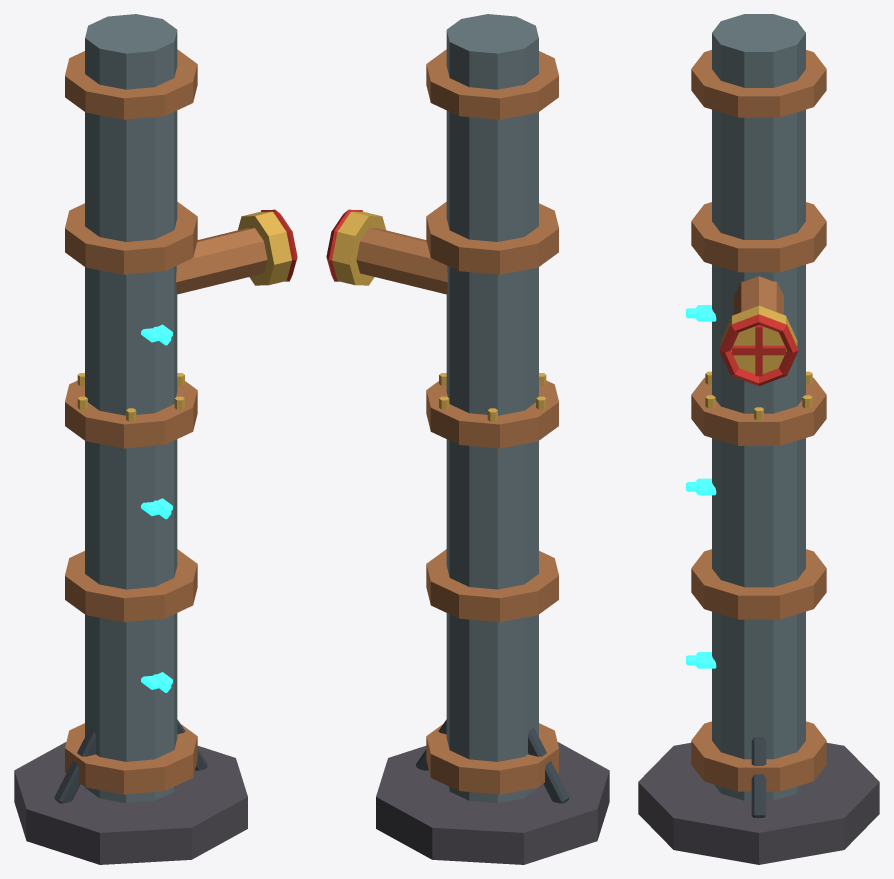
File: arcane_pipe_stack.glb
The picture shows the model from 3 angles, left to right: view 1: azimuth 30°, elevation 25°; view 2: azimuth 150°, elevation 25°; view 3: azimuth 270°, elevation 25°; orthographic projection.
Parts seen in each view (by area): view 1: Tall iron pipe, Carved pipe footing, Copper flange.003, Copper flange.001, Copper flange, Upper pipe collar, Copper flange.002, Side outlet, Outlet collar, Pipe brace; view 2: Tall iron pipe, Carved pipe footing, Copper flange.003, Copper flange.001, Copper flange, Upper pipe collar, Copper flange.002, Side outlet, Outlet collar, Pipe brace; view 3: Tall iron pipe, Carved pipe footing, Copper flange.001, Copper flange.003, Copper flange, Upper pipe collar, Copper flange.002, Valve wheel, Outlet collar, Side outlet, Pipe brace.001, Valve spoke.
Boxes of the visible parts, x1,y1,x2,y2 form: Tall iron pipe: (85,14,177,803); Carved pipe footing: (14,742,247,864); Copper flange.003: (65,202,197,274); Copper flange.001: (65,549,197,622); Copper flange: (65,723,197,794); Upper pipe collar: (65,49,197,119); Copper flange.002: (65,380,197,448); Side outlet: (176,228,267,294); Outlet collar: (238,211,291,285); Pipe brace: (54,727,95,803); Tall iron pipe: (446,14,538,803); Carved pipe footing: (376,742,609,864); Copper flange.003: (426,202,558,274); Copper flange.001: (426,549,558,622); Copper flange: (426,723,558,794); Upper pipe collar: (426,49,558,119); Copper flange.002: (426,380,558,448); Side outlet: (356,228,447,294); Outlet collar: (332,211,385,285); Pipe brace: (528,727,569,803); Tall iron pipe: (712,14,805,800); Carved pipe footing: (638,743,879,864); Copper flange.001: (691,549,826,619); Copper flange.003: (691,202,826,272); Copper flange: (691,721,826,791); Upper pipe collar: (691,50,826,117); Copper flange.002: (691,377,826,445); Valve wheel: (719,314,798,385); Outlet collar: (720,305,797,373); Side outlet: (734,276,783,314); Pipe brace.001: (751,737,766,817); Valve spoke: (732,345,785,355).
Bounding box in the file's own units: 1.99 × 5.85 × 1.64.
